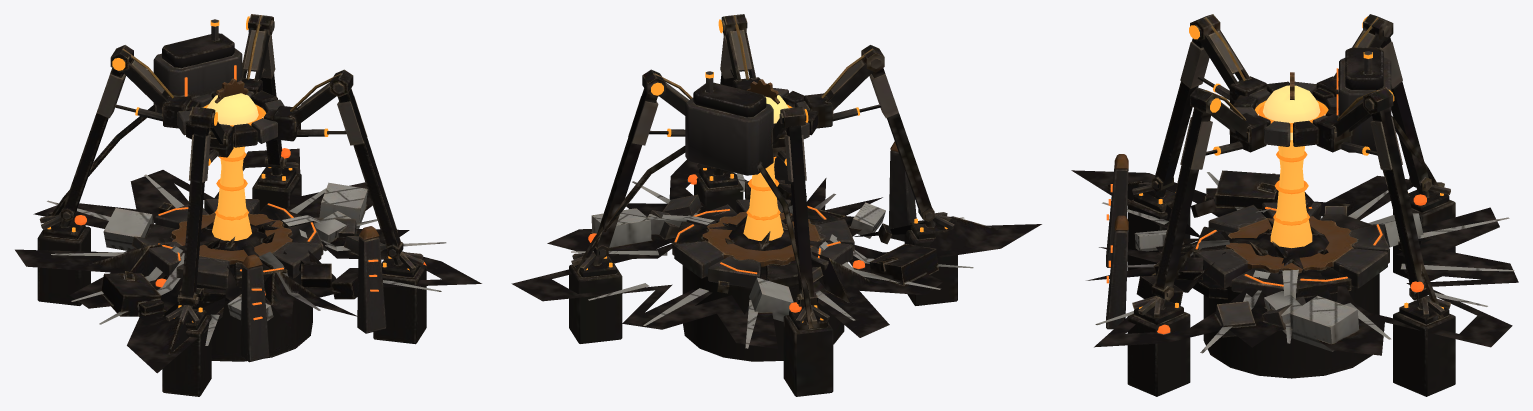
File: star-extractor-corona.glb
3 renders of one model, left to right at view 1: azimuth 30°, elevation 25°; view 2: azimuth 150°, elevation 25°; view 3: azimuth 270°, elevation 25°, orthographic. The views are drawn at different scales.
Parts seen in each view (by area): view 1: site_star_extractor_corona_body, site_star_extractor_corona_ruin, site_star_extractor_corona_core; view 2: site_star_extractor_corona_body, site_star_extractor_corona_ruin, site_star_extractor_corona_core; view 3: site_star_extractor_corona_body, site_star_extractor_corona_ruin, site_star_extractor_corona_core.
Part boxes in pixels (bbox=[...]): site_star_extractor_corona_body: bbox=[37, 14, 426, 396]; site_star_extractor_corona_ruin: bbox=[15, 148, 481, 373]; site_star_extractor_corona_core: bbox=[207, 93, 262, 240]; site_star_extractor_corona_body: bbox=[569, 14, 957, 396]; site_star_extractor_corona_ruin: bbox=[511, 159, 1041, 348]; site_star_extractor_corona_core: bbox=[743, 95, 788, 240]; site_star_extractor_corona_body: bbox=[1106, 14, 1455, 396]; site_star_extractor_corona_ruin: bbox=[1071, 170, 1518, 355]; site_star_extractor_corona_core: bbox=[1258, 85, 1325, 248].
Bounding box in the file's own units: 5.73 × 4.31 × 5.85.
Materials: 7 (1 with a texture image).
